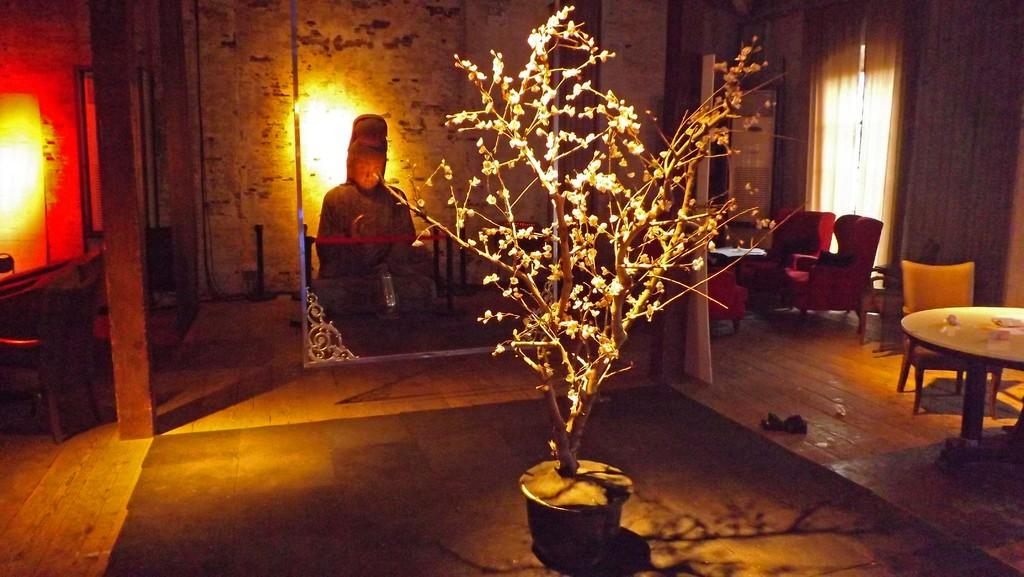Chair: (0, 276, 105, 447), (892, 258, 1002, 421), (741, 211, 834, 314), (705, 264, 745, 330)
